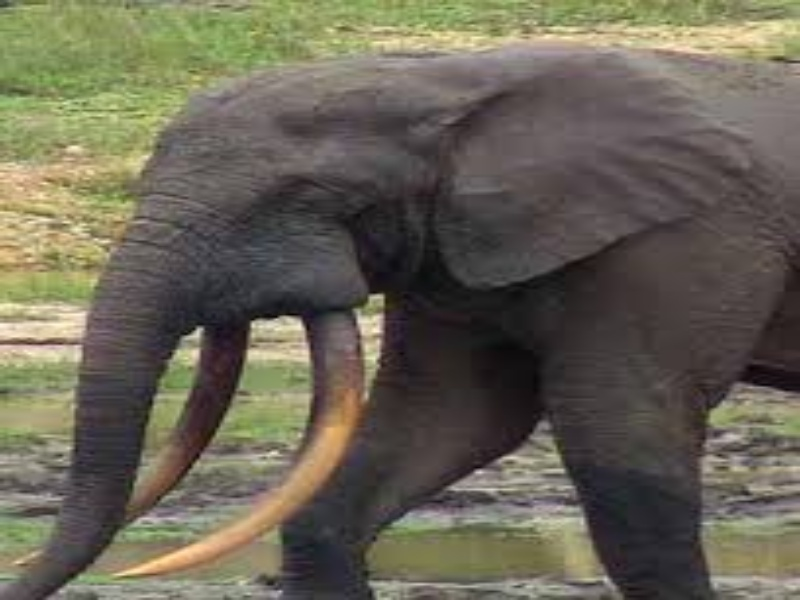elephant: (1, 50, 800, 590)
